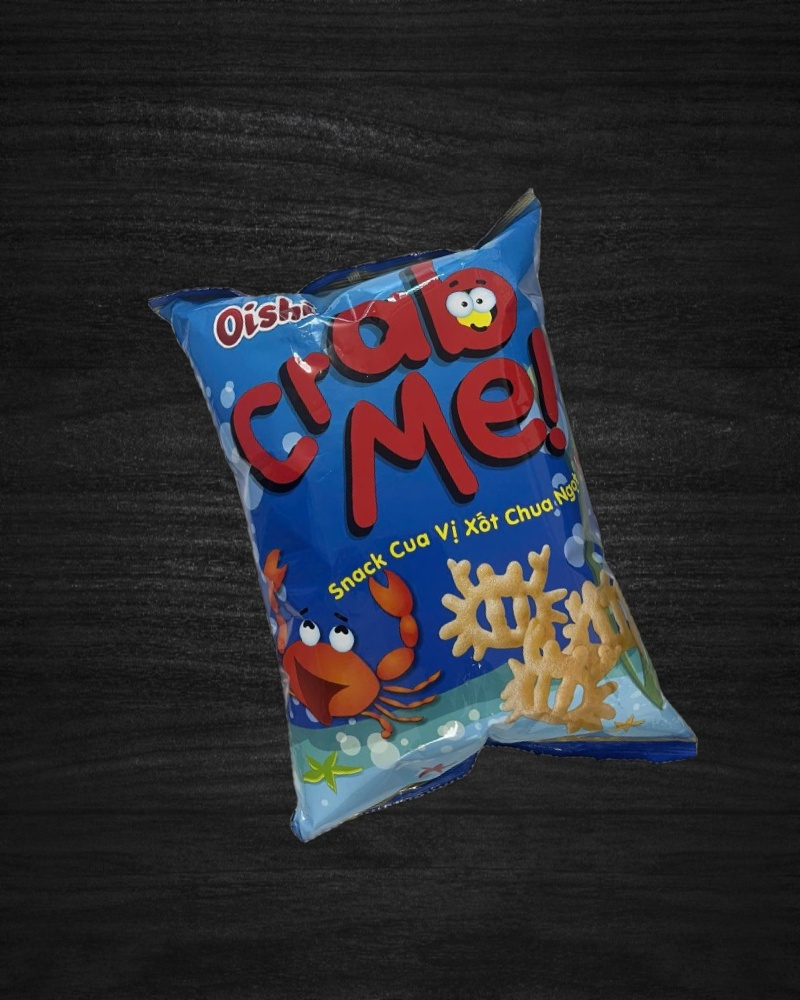Snack chay: (145, 183, 703, 865)
